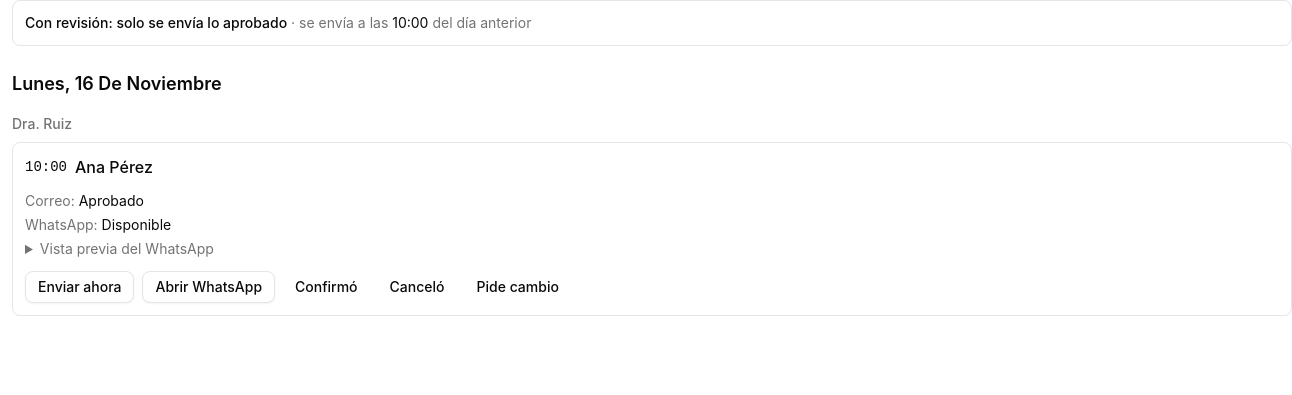
it: Enviar ahora › si la acción avisa que no salió, se muestra
Click the button "Enviar ahora". click: click(80, 287)
box: [25,271,134,303]
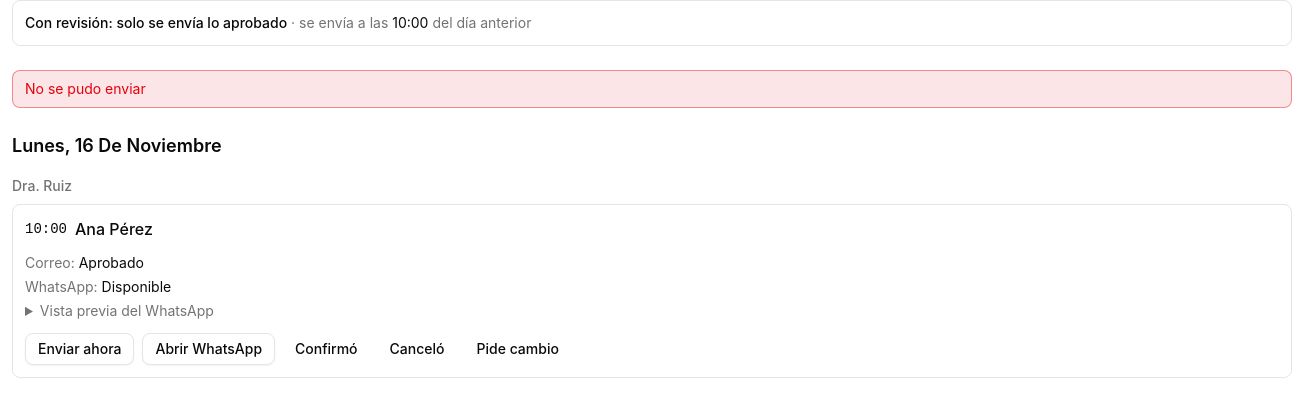
Now the message reads "No se pudo enviar", box [25,80,146,97]
